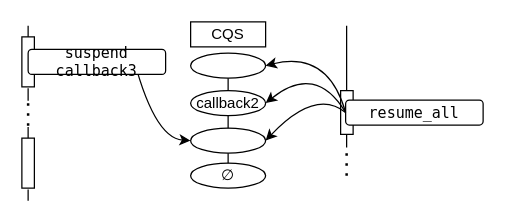
The diagram is 505 pixels wide and 224 high, and some of its shapes have lost their labels. Here are the shapes that lost their labels. From the top down, the centre of each, then its label:
point 227,65: callback1
point 227,140: callback3
